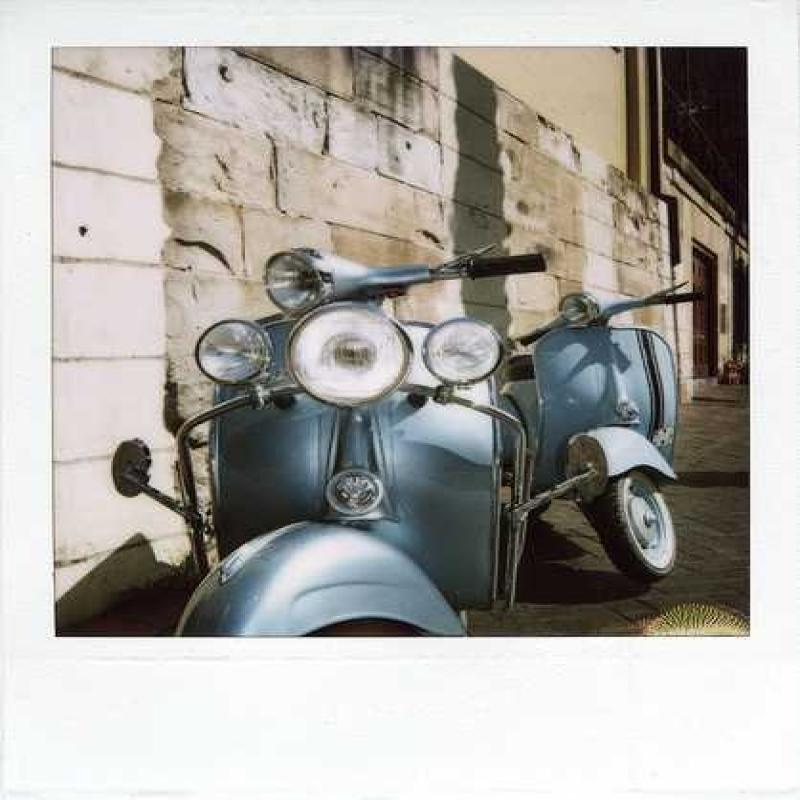bike: (154, 196, 532, 652), (502, 248, 734, 594)
